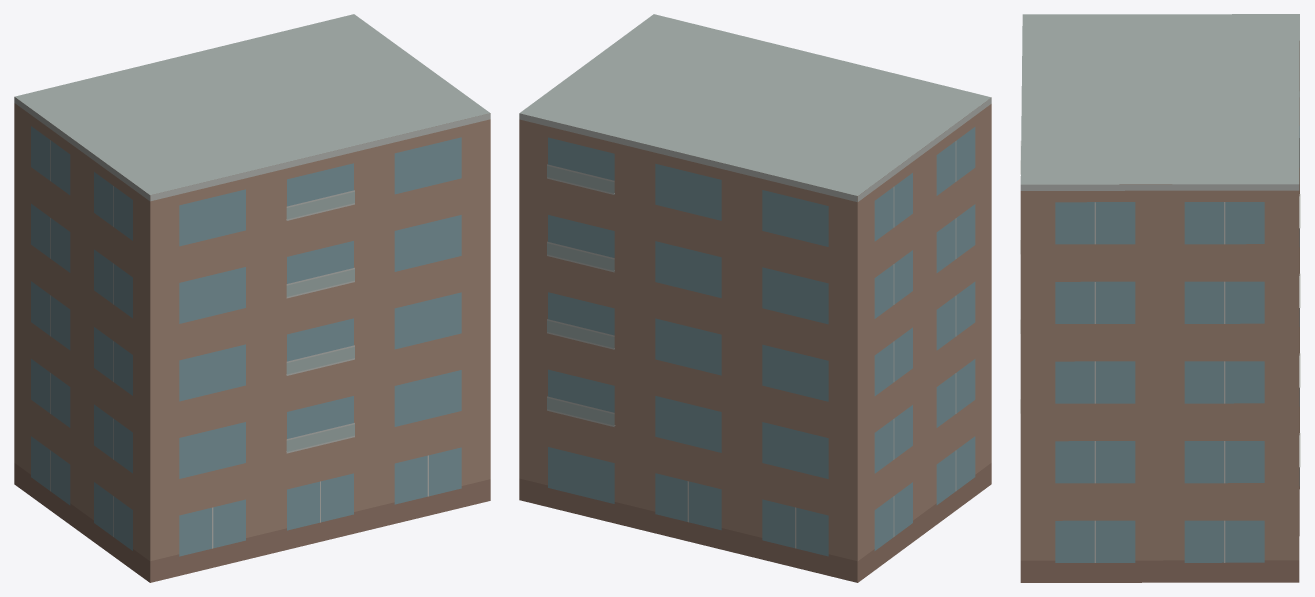
The model's file is survey-upis-32991840.glb.
3 views of the same model, side by side, from view 1: azimuth 30°, elevation 25°; view 2: azimuth 150°, elevation 25°; view 3: azimuth 270°, elevation 25° (orthographic). The views are drawn at different scales.
Parts seen in each view (by area): view 1: survey-upis-32991840.tmp; view 2: survey-upis-32991840.tmp; view 3: survey-upis-32991840.tmp.
Part boxes in pixels (box(x1,y1,x2,y2)): survey-upis-32991840.tmp: box(14, 14, 490, 582); survey-upis-32991840.tmp: box(519, 14, 991, 582); survey-upis-32991840.tmp: box(1020, 14, 1300, 582).
Bounding box in the file's own units: 14.02 × 15.25 × 9.73.
